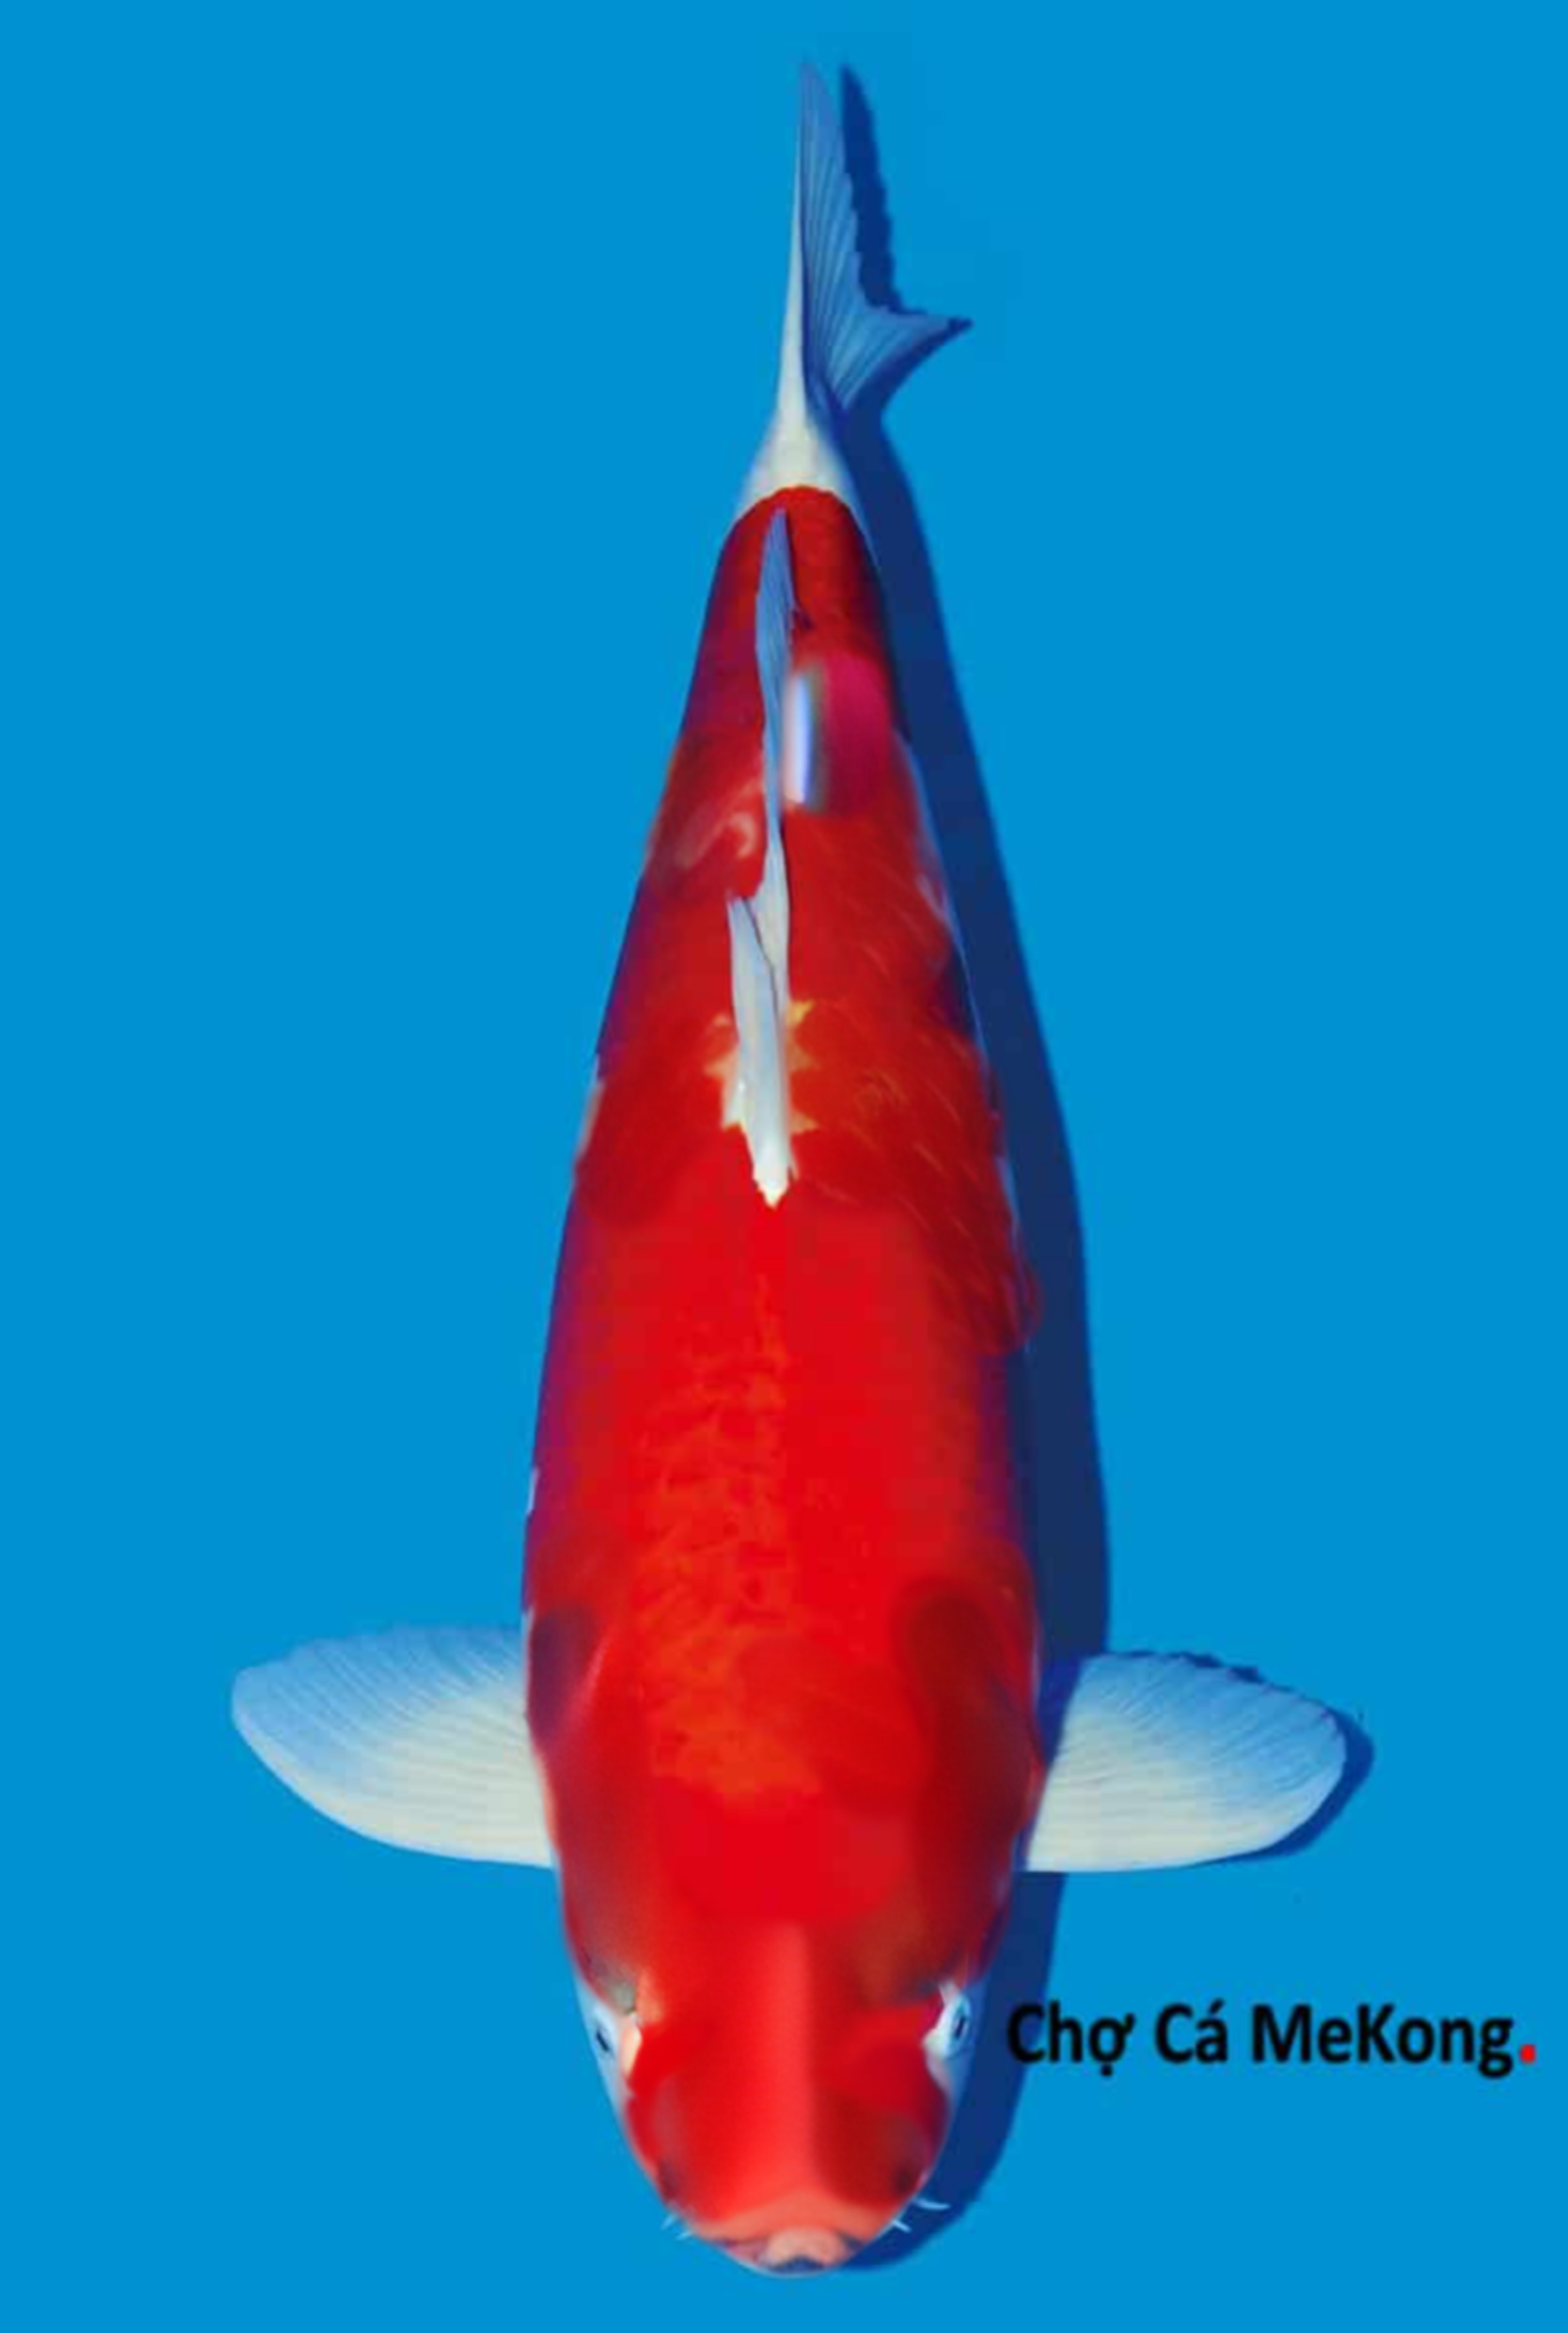red: (229, 63, 1356, 2265)
